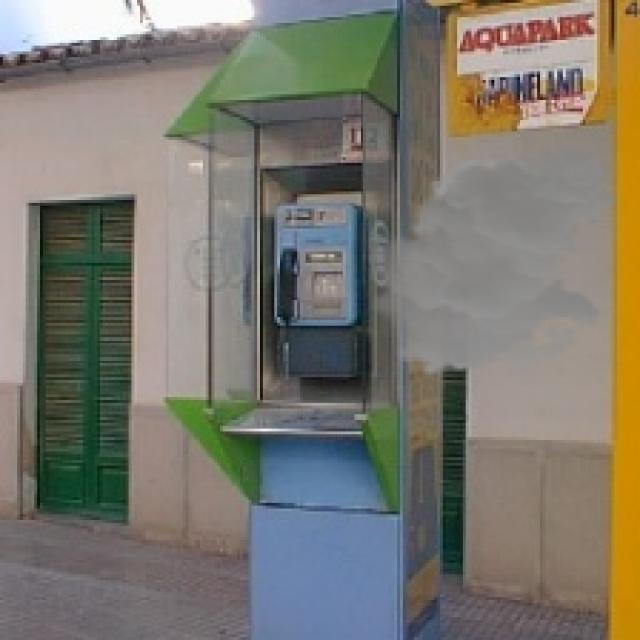smoke: (360, 146, 617, 377)
